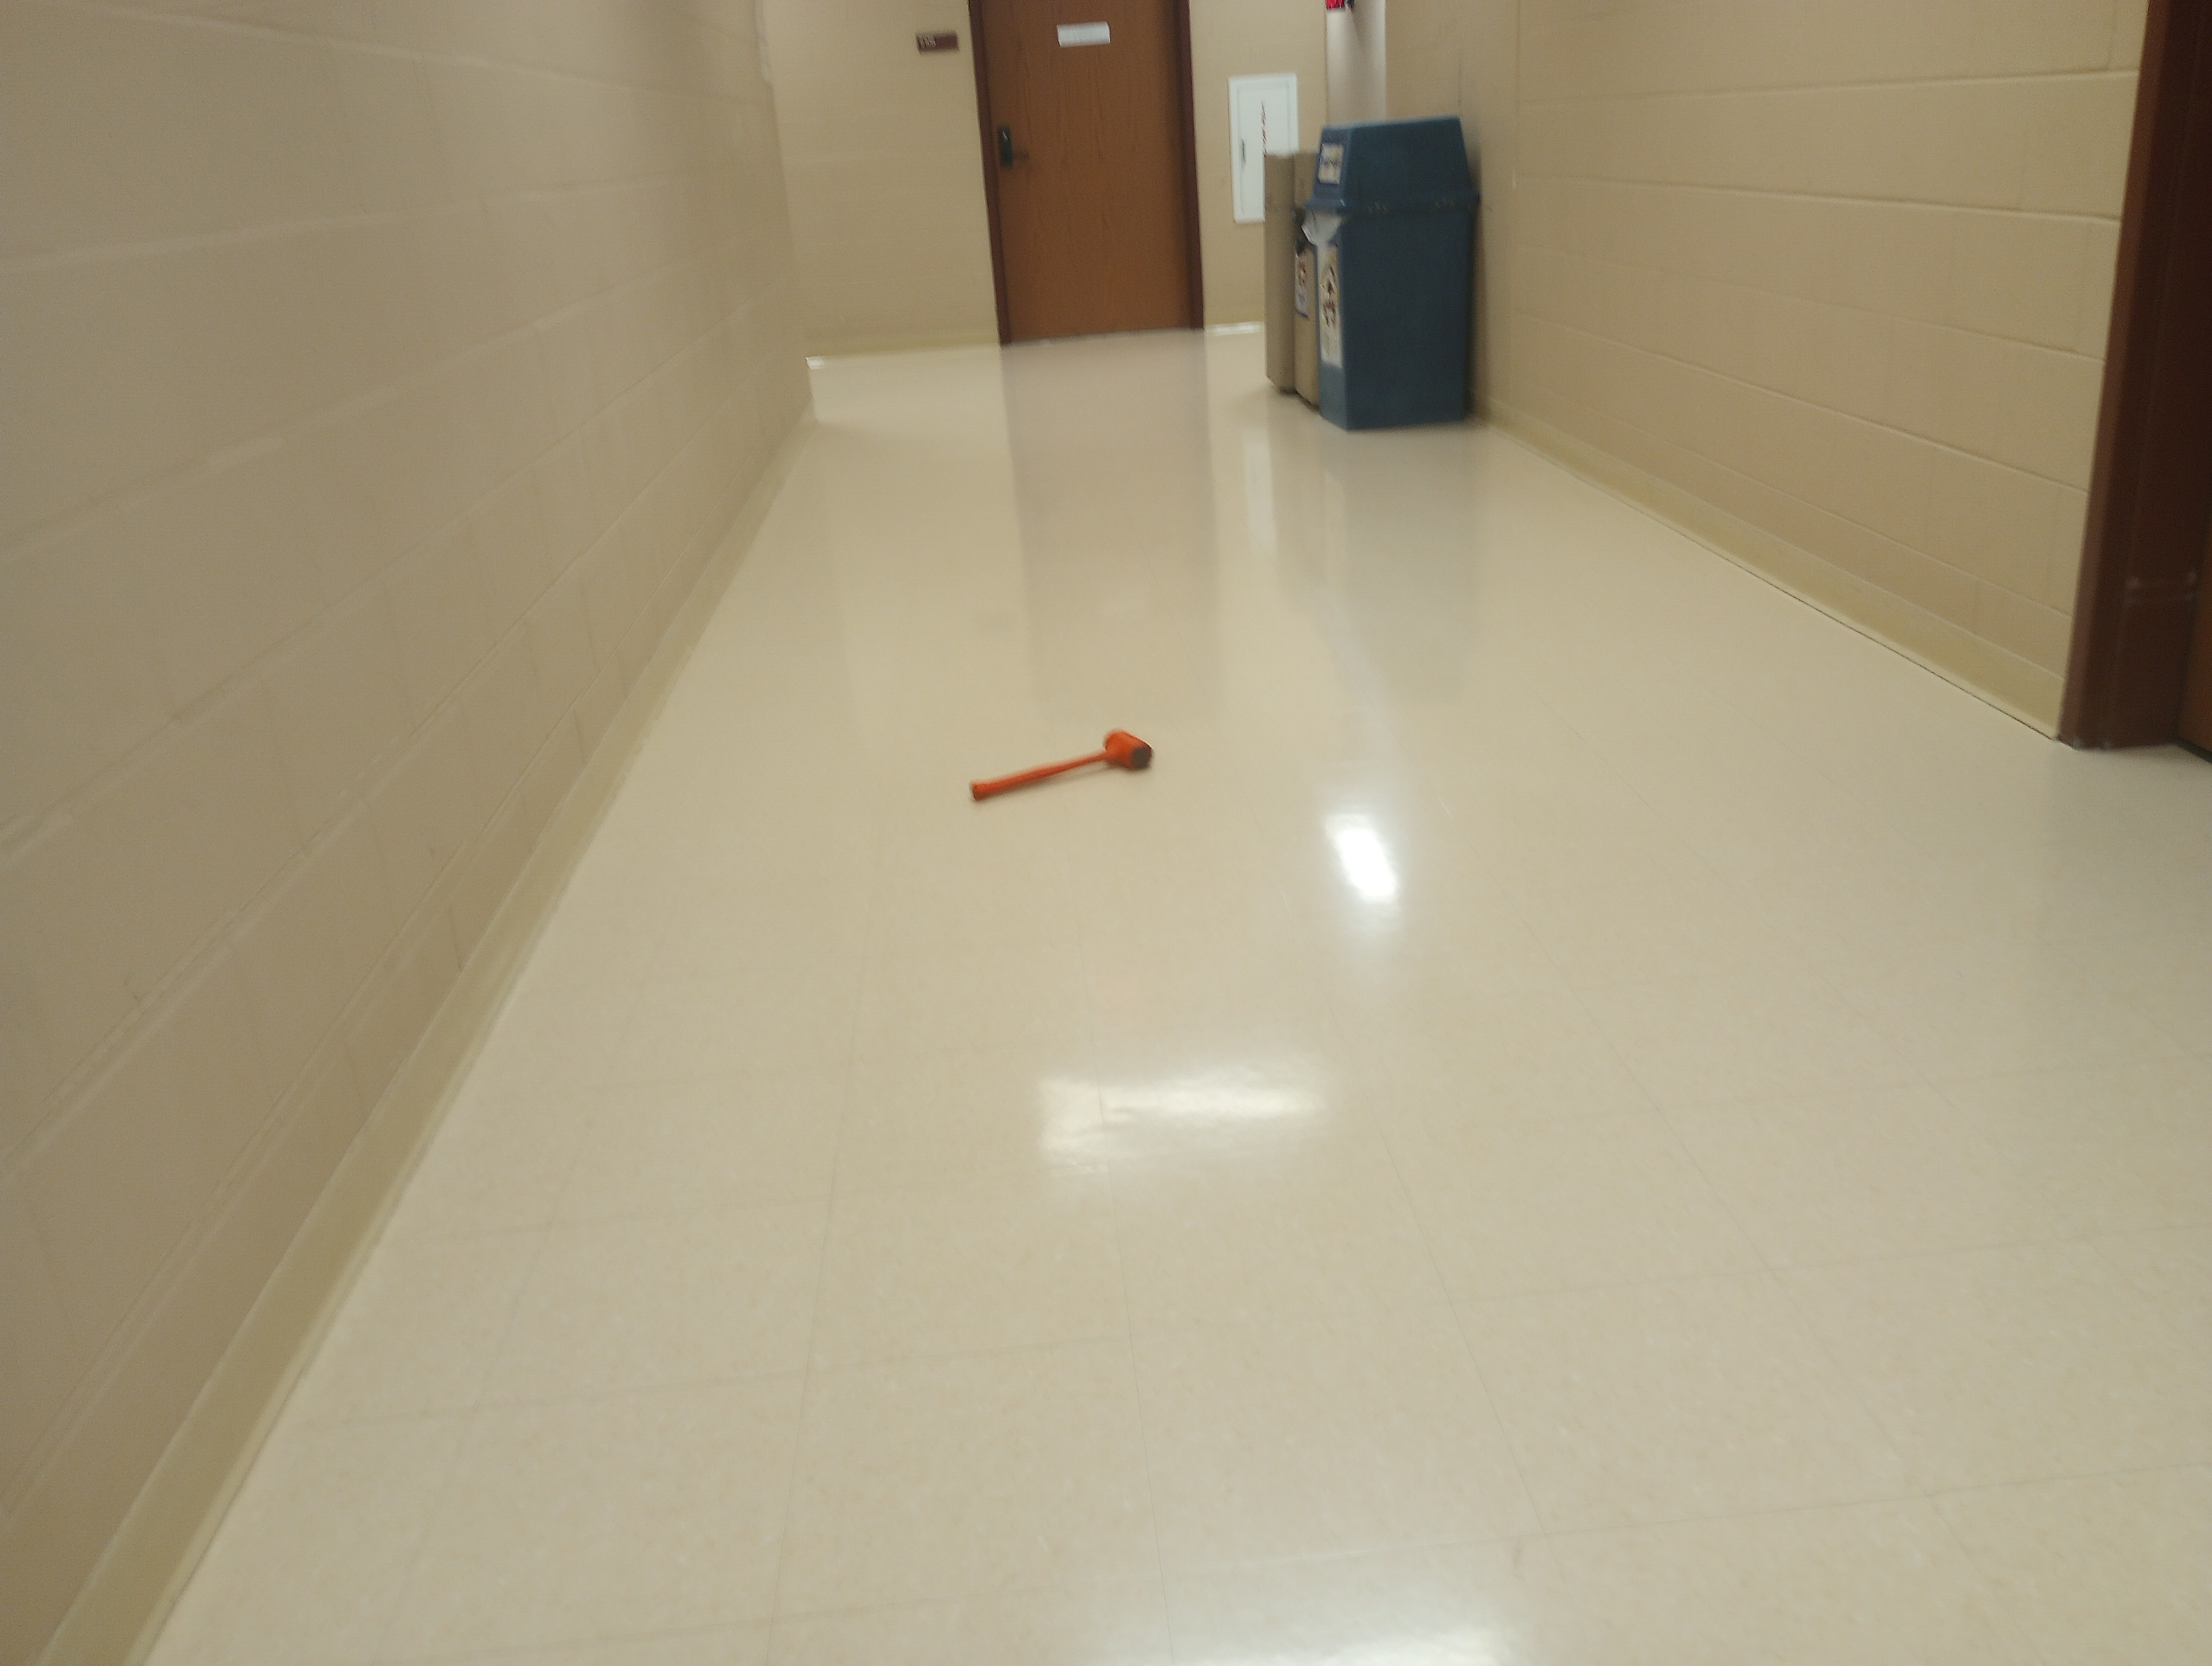bottle: (963, 721, 1156, 810)
